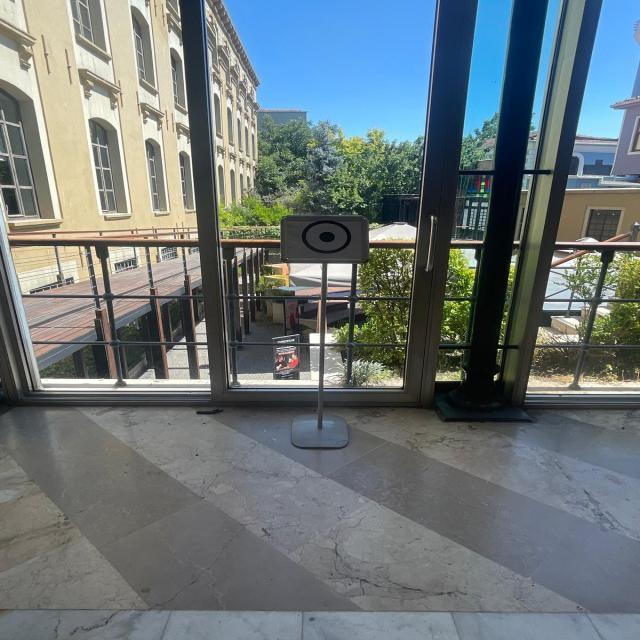Target: (268, 203, 385, 273)
inner: (314, 225, 339, 249)
